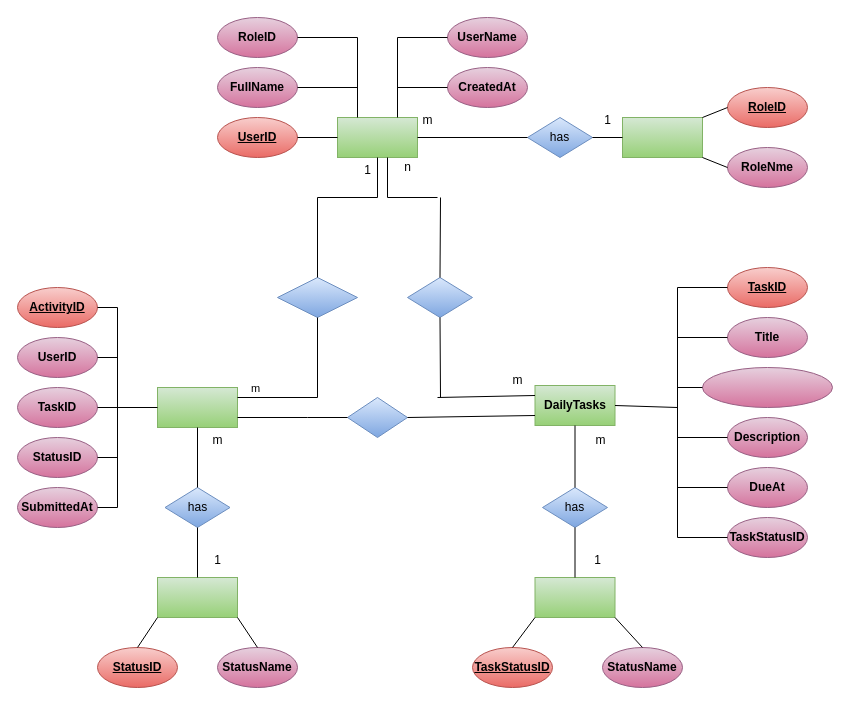
Some shapes in this 850 by 705 pixel diagram are drawn without their labels. Here are the shapes that lost their labels. From the top down, the centre of each, then its label:
the point at 377,137: Users
the point at 662,137: Roles
the point at 317,297: belongs to
the point at 439,297: manage
the point at 197,407: UserActivities
the point at 767,387: SupervisorUsername
the point at 377,417: is for
the point at 197,597: ActivityStatus
the point at 574,597: TaskStatus
